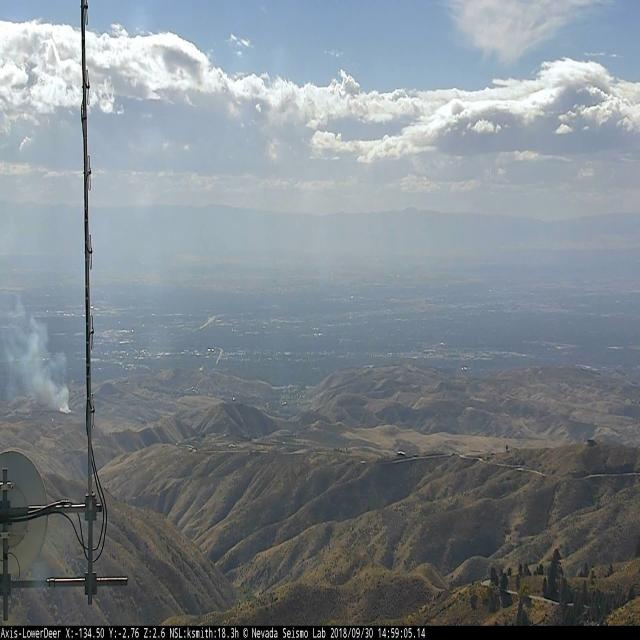smoke: (0, 286, 74, 416)
